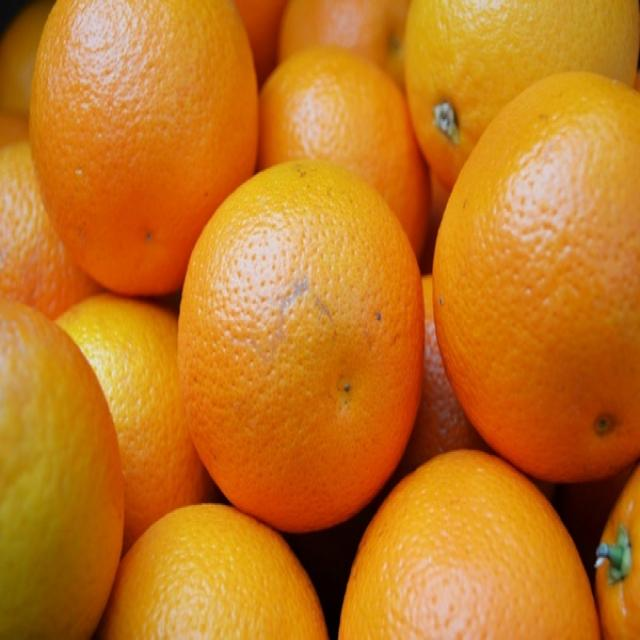orange: (178, 157, 426, 532), (432, 69, 640, 487), (30, 0, 261, 294), (340, 451, 596, 640), (402, 0, 640, 191), (253, 36, 432, 273), (0, 299, 124, 640), (112, 500, 336, 640), (0, 109, 109, 340), (276, 2, 429, 111)
